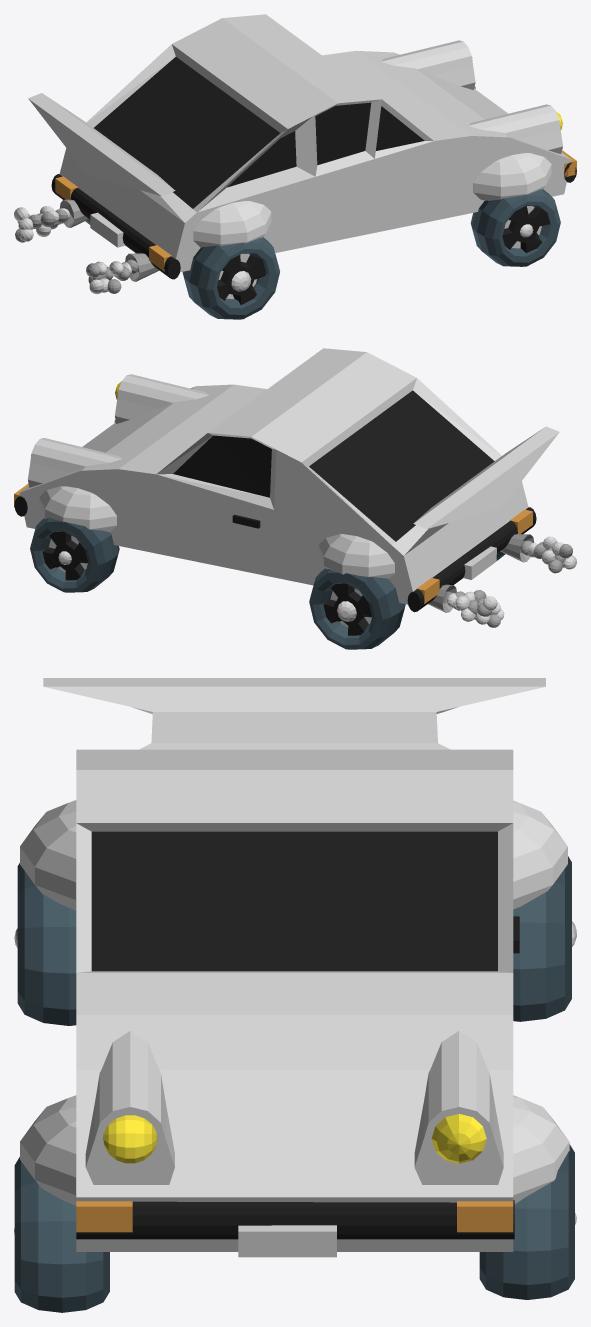
The model's file is sportster.glb.
The picture shows the model from 3 angles, top to bottom: view 1: azimuth 30°, elevation 25°; view 2: azimuth 150°, elevation 25°; view 3: azimuth 270°, elevation 25°; orthographic projection. The views are drawn at different scales.
Parts seen in each view (by area): view 1: group77139292_0120e7, group77139292_92e869, group1011238131, group95008921, group109523932, group1638672984, group2031202111, group955804400, group1400732958, group1371385732_fa0559, group91051705_5cfeb0, group1949746508 (+2 smaller); view 2: group77139292_0120e7, group77139292_92e869, group102155473, group787135607, group1435747821, group301823977, group955804400, group2031202111, group1400732958, group75184170_8285d2, group2111388306_b7cfdf, group1949746508 (+2 smaller); view 3: group77139292_0120e7, group77139292_92e869, group460488492, group95008921, group2031202111, group955804400, group787135607, group1011238131, group102155473, group1638672984, group109523932, group301823977 (+6 smaller).
Boxes of the visible parts, x1,y1,x2,y2 form: group77139292_0120e7: (28,14,571,272); group77139292_92e869: (94,57,424,208); group1011238131: (182,237,279,319); group95008921: (470,189,560,266); group109523932: (473,153,551,200); group1638672984: (193,201,271,247); group2031202111: (468,104,562,153); group955804400: (381,40,475,89); group1400732958: (51,174,180,279); group1371385732_fa0559: (217,255,266,304); group91051705_5cfeb0: (502,205,549,252); group1949746508: (90,212,125,247); group77139292_0120e7: (19,348,559,604); group77139292_92e869: (173,390,494,541); group102155473: (309,568,405,649); group787135607: (30,517,119,592); group1435747821: (318,534,394,578); group301823977: (39,486,116,532); group955804400: (27,438,121,487); group2031202111: (115,374,208,423); group1400732958: (407,507,536,612); group75184170_8285d2: (323,583,371,635); group2111388306_b7cfdf: (42,531,87,580); group1949746508: (463,546,496,579); group77139292_0120e7: (43,678,545,1251); group77139292_92e869: (91,831,497,971); group460488492: (76,1200,514,1239); group95008921: (14,1157,109,1312); group2031202111: (85,1030,174,1184); group955804400: (414,1031,503,1184); group787135607: (479,1144,574,1299); group1011238131: (17,863,76,1025); group102155473: (513,856,571,1021); group1638672984: (20,800,76,909); group109523932: (20,1095,76,1205); group301823977: (513,1095,569,1203).
Bounding box in the file's own units: 0.7302 × 0.2942 × 0.3994.
